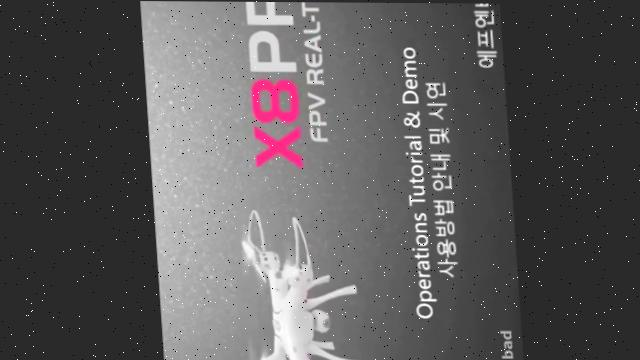drone: (234, 207, 357, 360)
